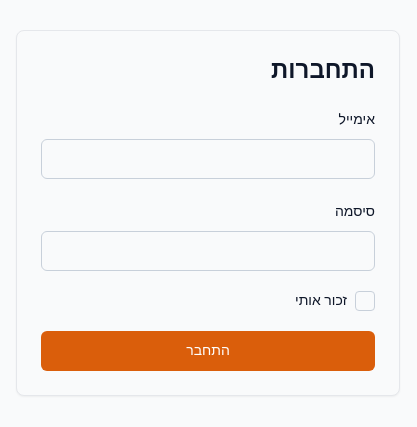
Test case: S01 Login › maps server details.fields onto form fields
Type "admin@dev.local" into the field labelled "אימייל" at (208, 159), box 41,139 -> 375,179
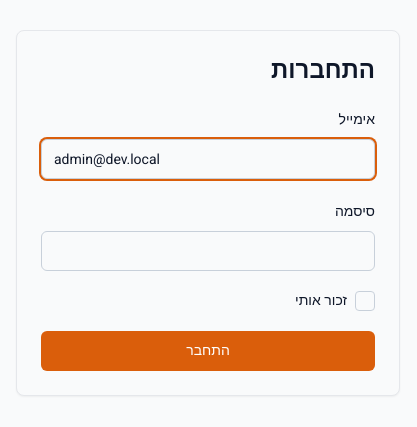
Type "Passw0rd!" into the password field labelled "סיסמה" at (208, 251), box 41,231 -> 375,271
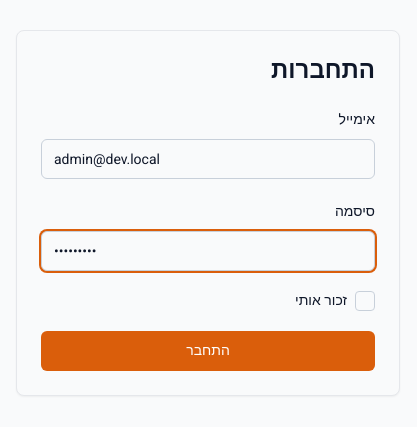
Click the button "התחבר" at (208, 351), box 41,331 -> 375,371
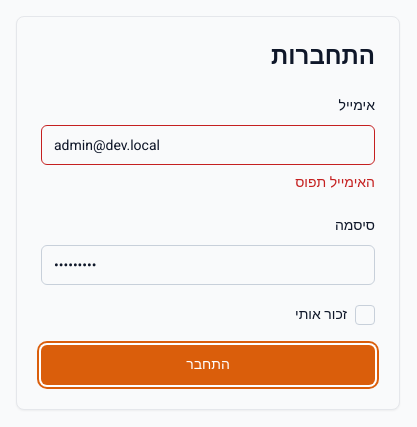
Expected: the text "האימייל תפוס" is shown, 295,172 -> 375,193
